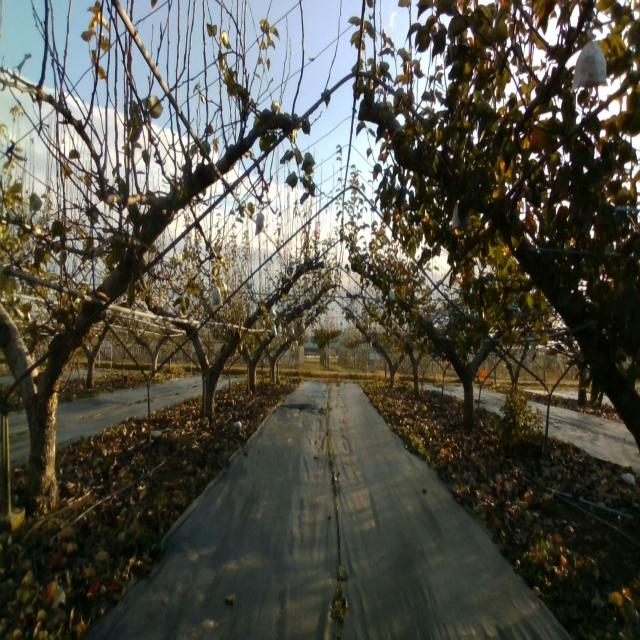pearbags: (571, 27, 609, 92), (210, 282, 223, 306)
